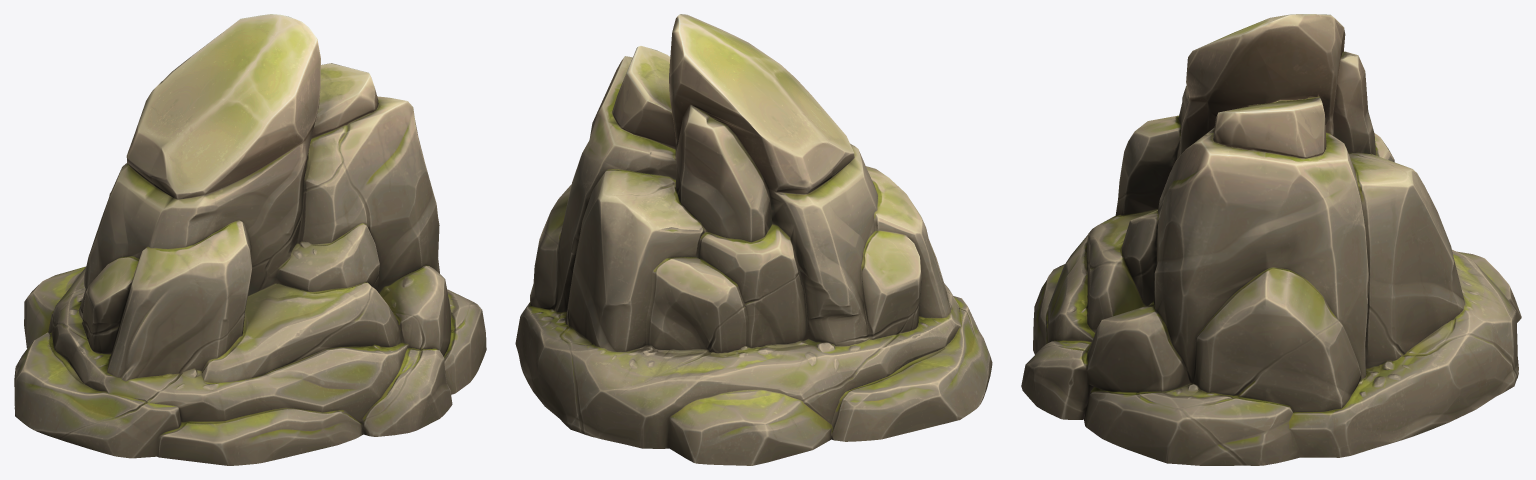
Rendered from pedra.glb.
3 views of the same model, side by side, from view 1: azimuth 30°, elevation 25°; view 2: azimuth 150°, elevation 25°; view 3: azimuth 270°, elevation 25° (orthographic). The views are drawn at different scales.
Visible parts, largest first — view 1: Rock; view 2: Rock; view 3: Rock.
Part boxes in pixels (x1,y1,x2,y2): Rock: (14, 14, 486, 465); Rock: (515, 14, 992, 465); Rock: (1021, 14, 1521, 465).
Bounding box in the file's own units: 3.07 × 2.27 × 2.8.
Materials: 1 (1 with a texture image).
